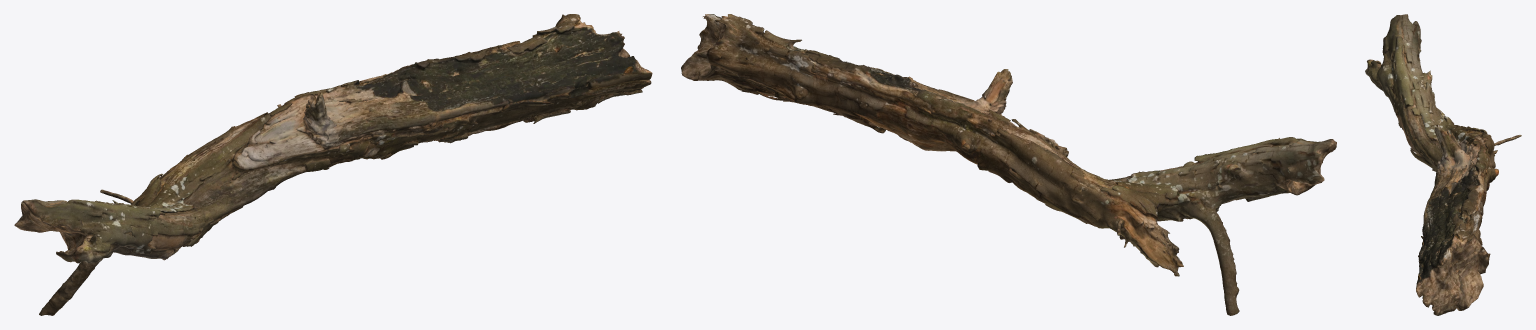
File: dead_tree_trunk_02.glb
3 views of the same model, side by side, from view 1: azimuth 30°, elevation 25°; view 2: azimuth 150°, elevation 25°; view 3: azimuth 270°, elevation 25° (orthographic). The views are drawn at different scales.
Visible parts, largest first — view 1: dead_tree_trunk_02; view 2: dead_tree_trunk_02; view 3: dead_tree_trunk_02.
Boxes of the visible parts, bbox=[...] form: dead_tree_trunk_02: bbox=[14, 14, 652, 315]; dead_tree_trunk_02: bbox=[681, 14, 1336, 315]; dead_tree_trunk_02: bbox=[1365, 14, 1521, 315].
Bounding box in the file's own units: 4.05 × 1.06 × 1.06.
1 material, 1 textured.
